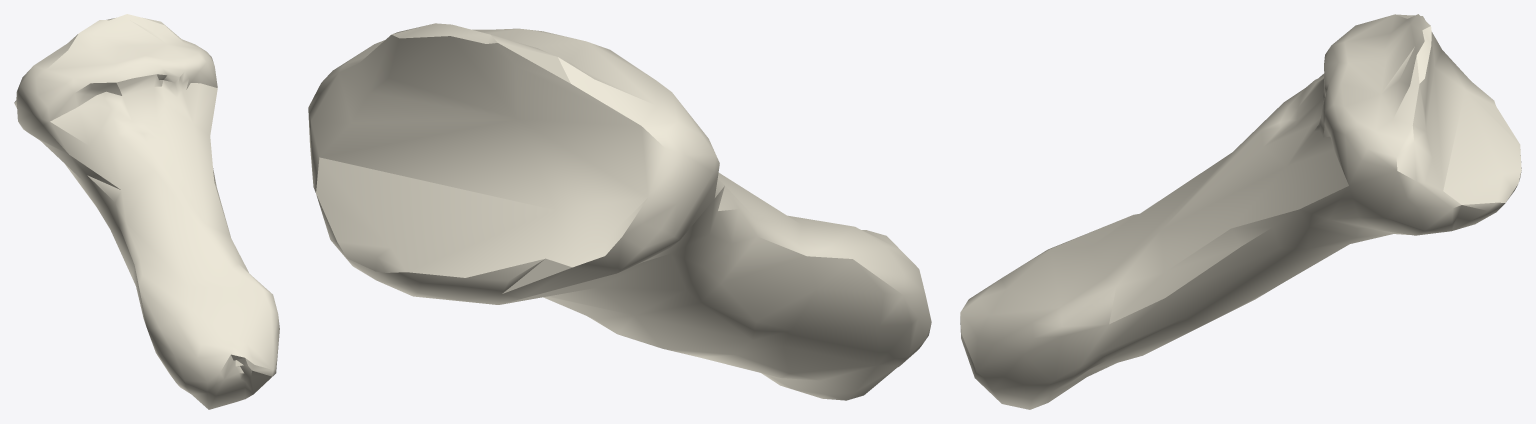
Rendered from fma24461.glb.
3 renders of one model, left to right at view 1: azimuth 30°, elevation 25°; view 2: azimuth 150°, elevation 25°; view 3: azimuth 270°, elevation 25°, orthographic. The views are drawn at different scales.
Visible parts, largest first — view 1: FMA24461; view 2: FMA24461; view 3: FMA24461.
Part boxes in pixels (x1,y1,x2,y2): FMA24461: (14, 14, 279, 409); FMA24461: (308, 23, 931, 400); FMA24461: (960, 14, 1521, 409).
Bounding box in the file's own units: 0.00962 × 0.0136 × 0.0175.
